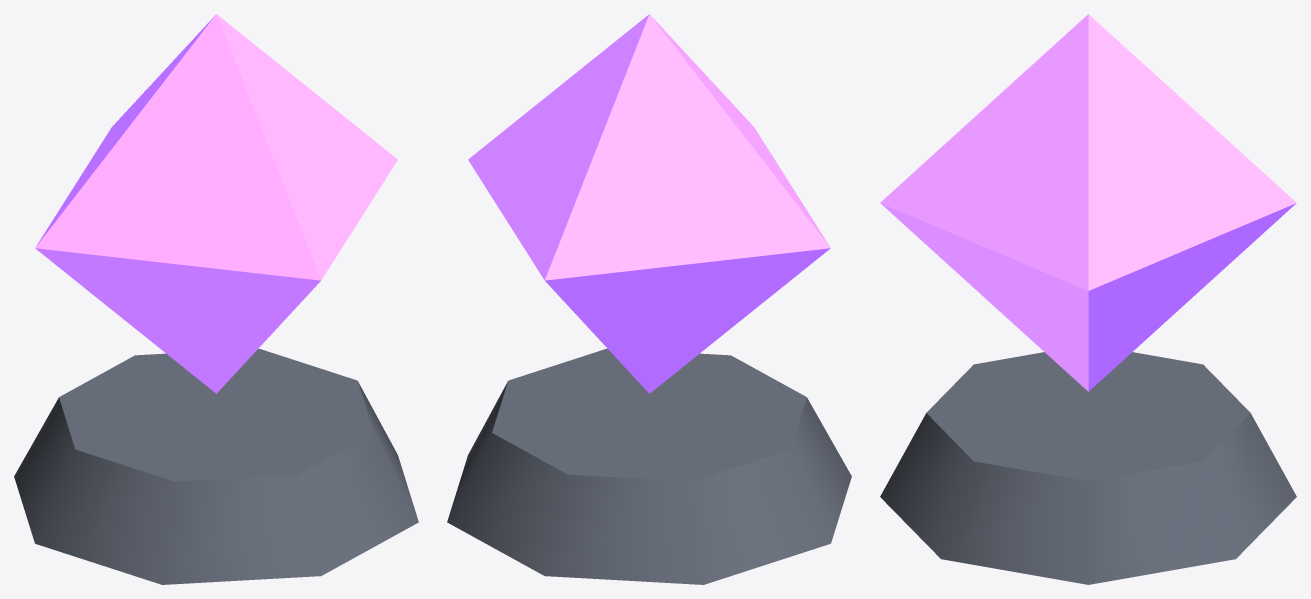
File: crystal.glb
3 views of the same model, side by side, from view 1: azimuth 30°, elevation 25°; view 2: azimuth 150°, elevation 25°; view 3: azimuth 270°, elevation 25° (orthographic).
Visible parts, largest first — view 1: crystal_gemm, crystal_base; view 2: crystal_gemm, crystal_base; view 3: crystal_gemm, crystal_base.
Boxes of the visible parts, x1,y1,x2,y2 form: crystal_gemm: (35, 14, 397, 393); crystal_base: (14, 348, 418, 584); crystal_gemm: (468, 14, 830, 393); crystal_base: (447, 348, 851, 584); crystal_gemm: (880, 14, 1296, 391); crystal_base: (880, 352, 1296, 584).
Bounding box in the file's own units: 0.9 × 1.15 × 0.9.
